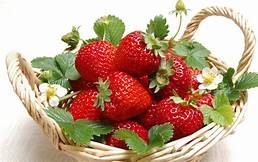Fresa: (98, 70, 154, 123), (113, 28, 164, 77), (153, 95, 205, 141)
